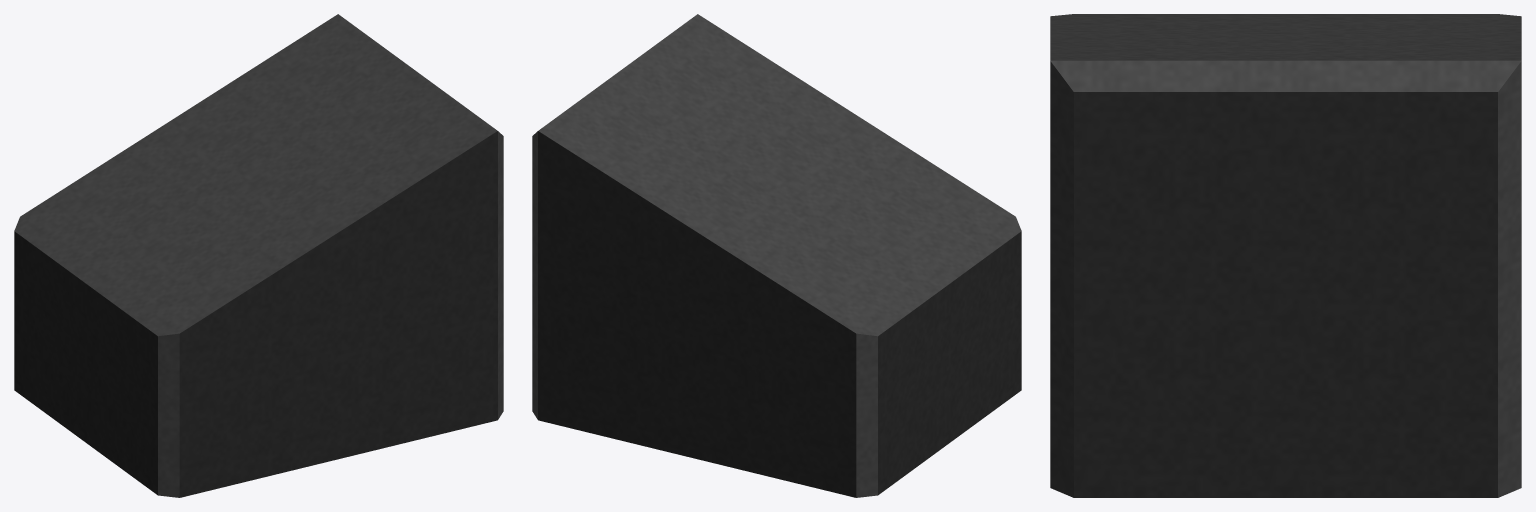
Rendered from station-register-crafted-retail.glb.
3 renders of one model, left to right at view 1: azimuth 30°, elevation 25°; view 2: azimuth 150°, elevation 25°; view 3: azimuth 270°, elevation 25°, orthographic. The views are drawn at different scales.
Parts seen in each view (by area): view 1: Authored_surface_005; view 2: Authored_surface_005; view 3: Authored_surface_005.
Boxes of the visible parts, x1,y1,x2,y2 form: Authored_surface_005: (14,14,503,497); Authored_surface_005: (532,14,1021,497); Authored_surface_005: (1050,14,1521,497).
Bounding box in the file's own units: 1 × 0.8 × 0.8.
Materials: 1 (1 with a texture image).
